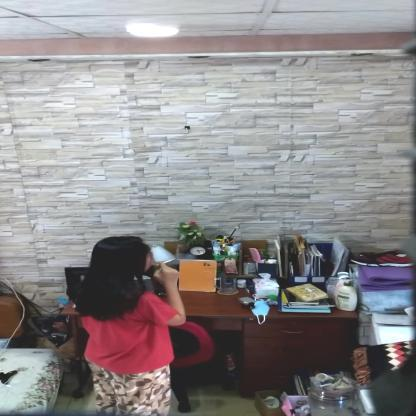cigarette: (163, 258, 177, 264)
person: (79, 235, 193, 415)
